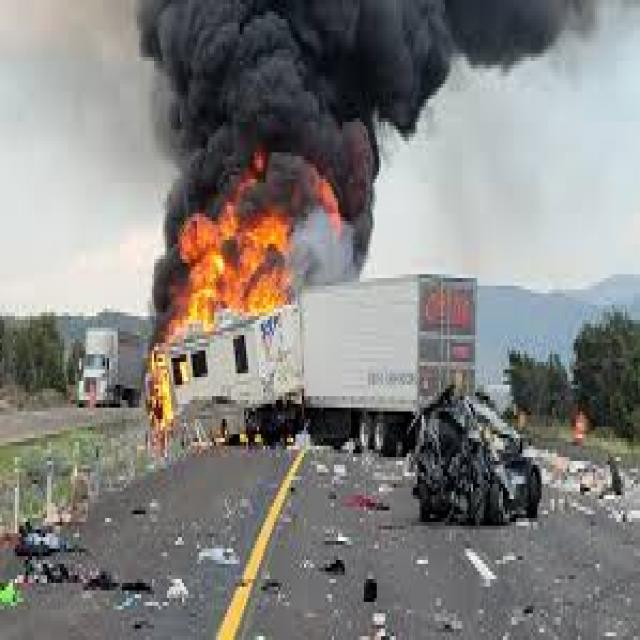fire: (171, 202, 289, 335)
smoke: (133, 4, 595, 206), (289, 210, 357, 297), (148, 206, 186, 339)
